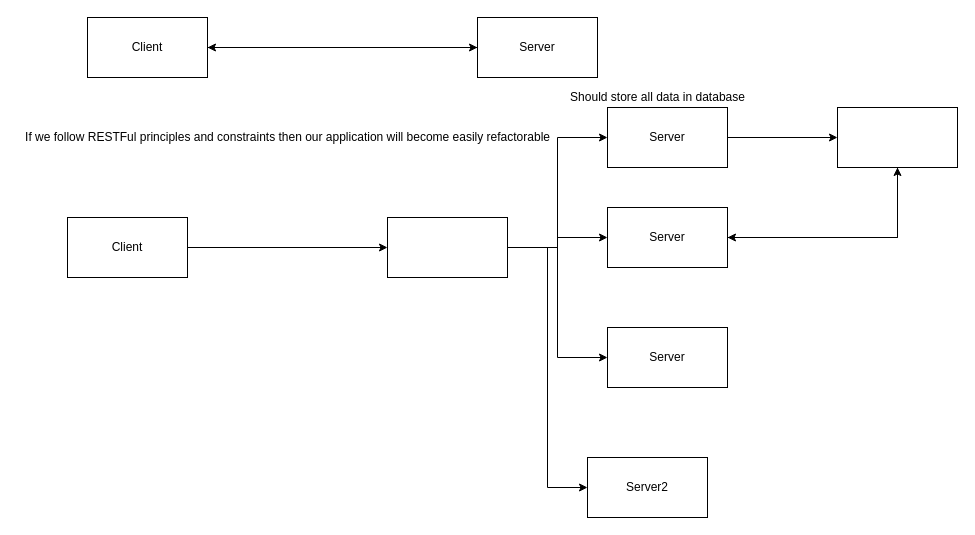
Image size: 975x535. Some labels were removed from this diagram. Each missing label, with the box of its shape:
DB: (836, 106, 958, 168)
Load Balancer: (386, 216, 508, 278)
